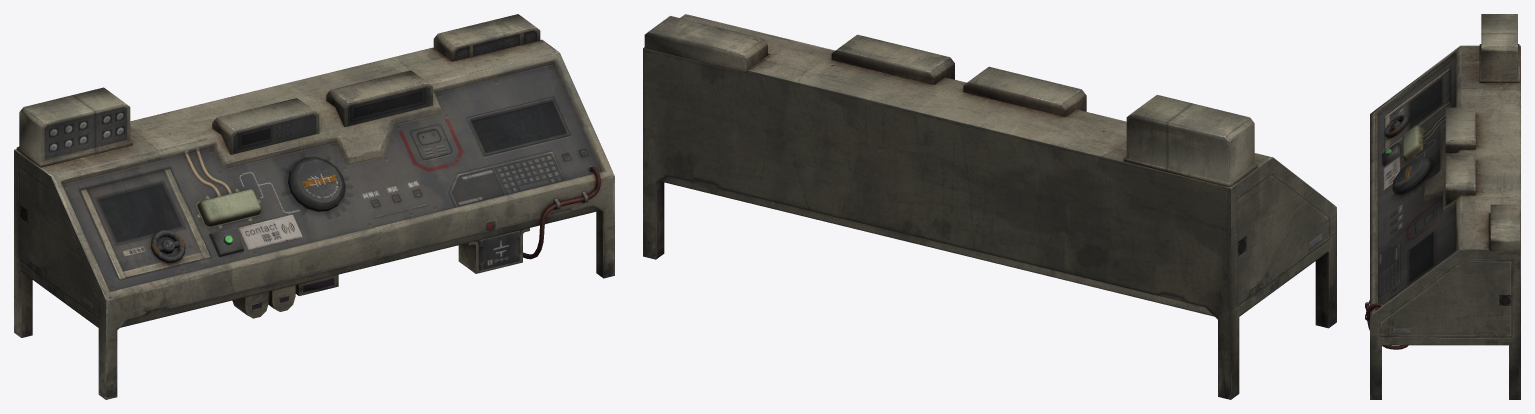
Rendered from computer_communication_table.dae.
3 renders of one model, left to right at view 1: azimuth 30°, elevation 25°; view 2: azimuth 150°, elevation 25°; view 3: azimuth 270°, elevation 25°, orthographic. The views are drawn at different scales.
Parts seen in each view (by area): view 1: computer_communication_table, battery_hatch, wheel; view 2: computer_communication_table; view 3: computer_communication_table, wheel.
Boxes of the visible parts, x1=… form: computer_communication_table: x1=14, y1=14, x2=614, y2=399; battery_hatch: x1=478, y1=230, x2=519, y2=270; wheel: x1=151, y1=230, x2=185, y2=262; computer_communication_table: x1=643, y1=14, x2=1336, y2=399; computer_communication_table: x1=1365, y1=14, x2=1520, y2=399; wheel: x1=1384, y1=115, x2=1408, y2=137.
Bounding box in the file's own units: 4 × 1.69 × 1.29.
